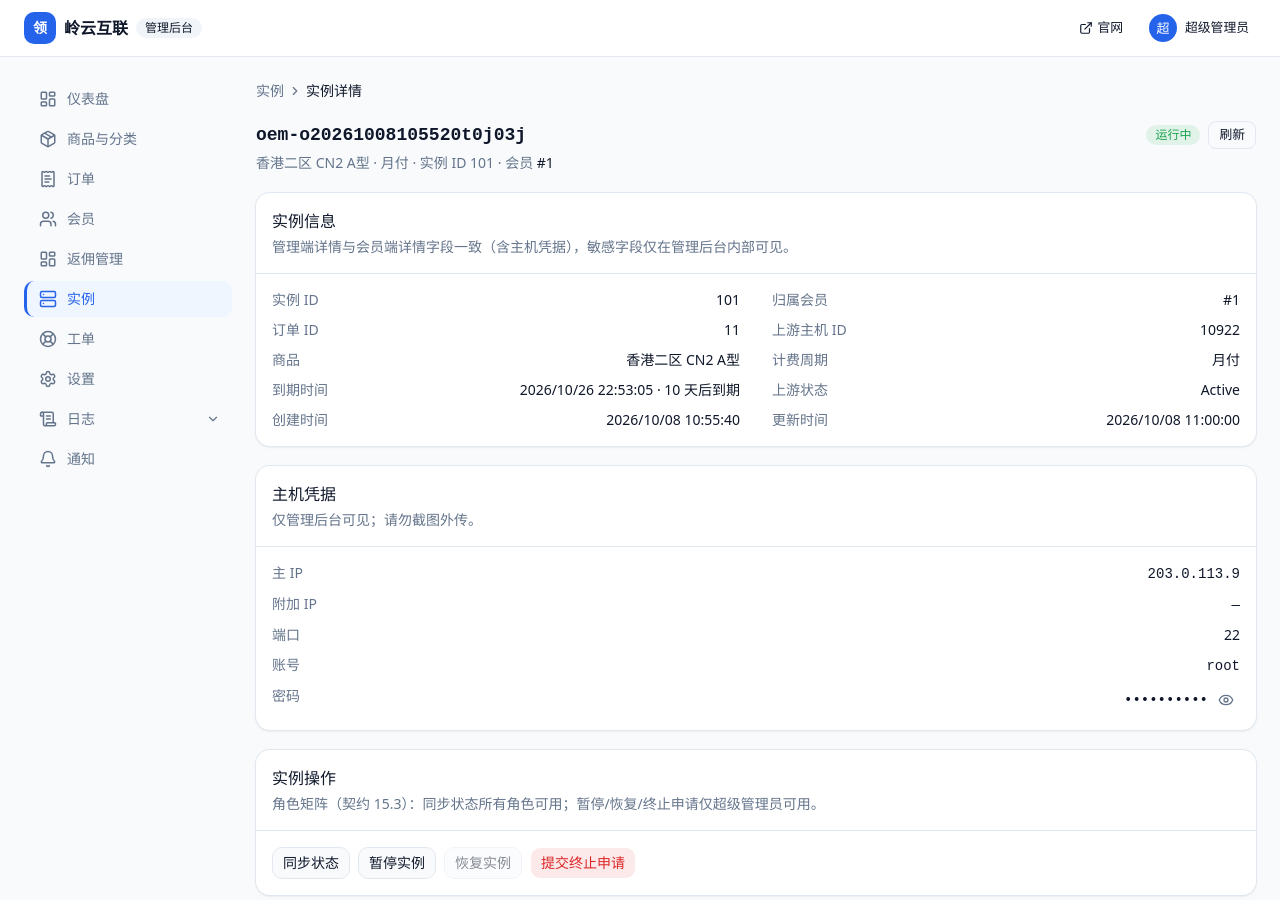
it: 管理后台 · 实例详情与操作 › 渲染实例信息与操作记录；主机密码默认遮蔽，可显式显示
Expected: the heading "oem-o20261008105520t0j03j" is shown, [256,121,554,149]
Expected: the text "主机凭据" is shown, [272,483,336,505]
Click the button named "显示密码".
click(1226, 700)  # box [1212,686,1240,714]
(page scrolled)
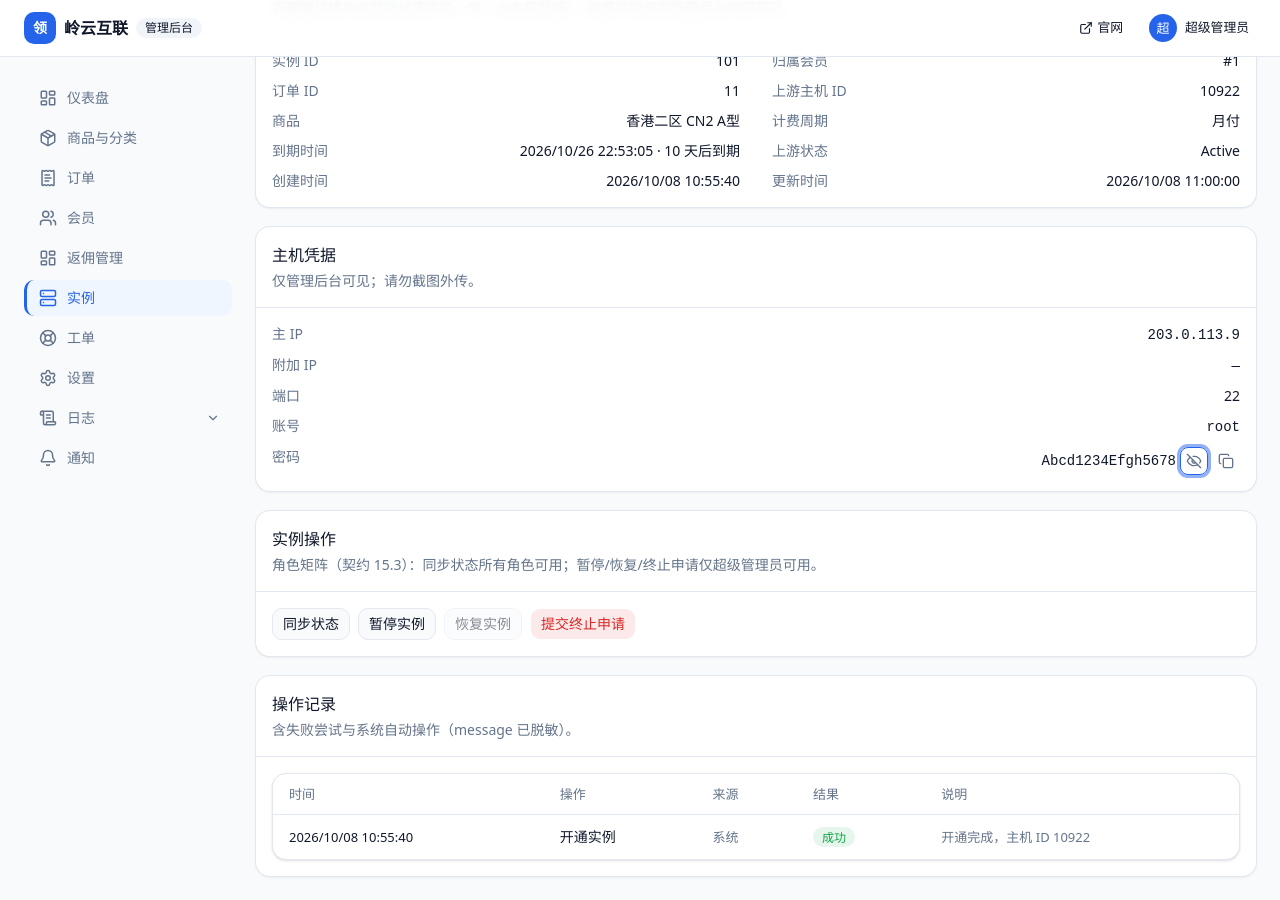
Expected: the text "开通实例" is shown, [560,827,616,846]
Expected: the text "Abcd1234Efgh5678" is shown, [1042,451,1176,471]
